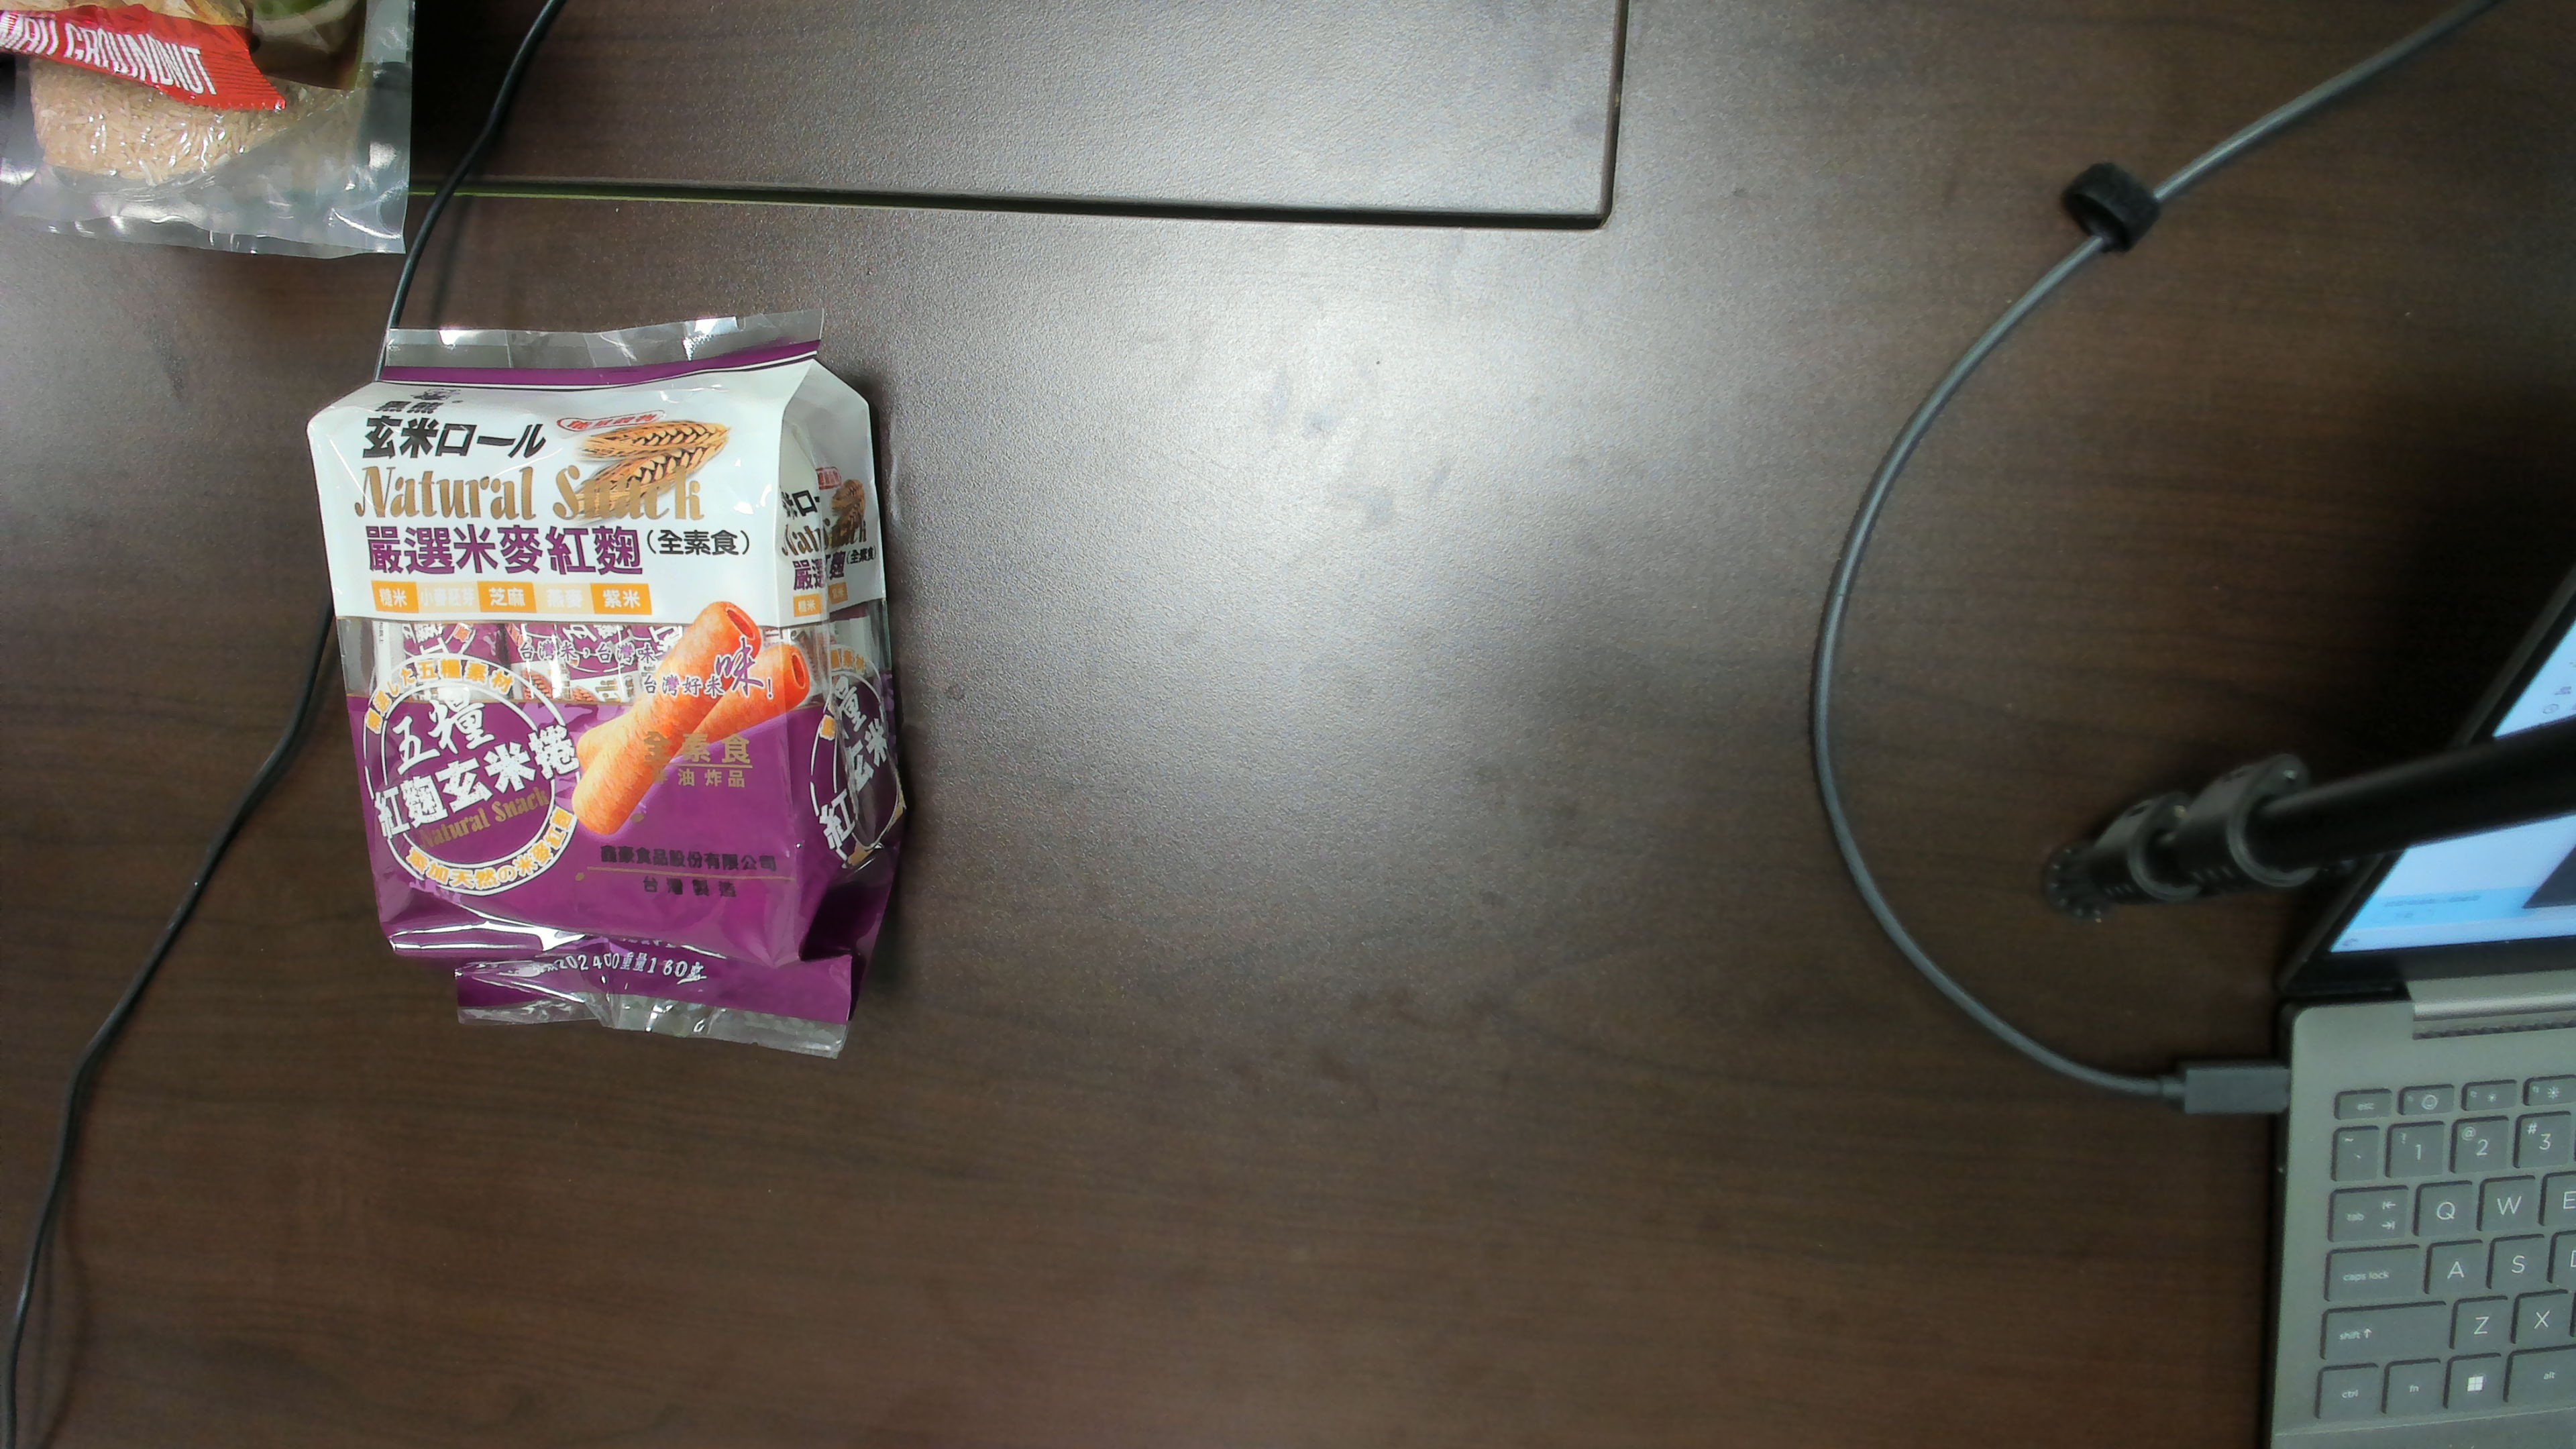BiscuitsCrackersCookies_100-199g_NonHalal_NonHealthy: (356, 416, 789, 901)
